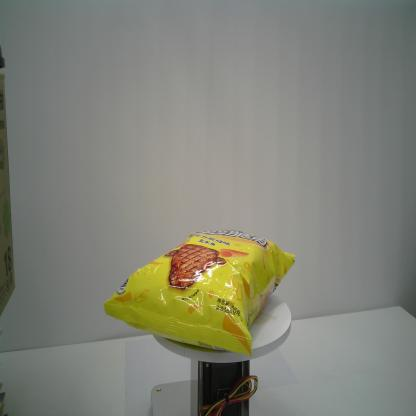Puffed Food: (102, 226, 297, 359)
